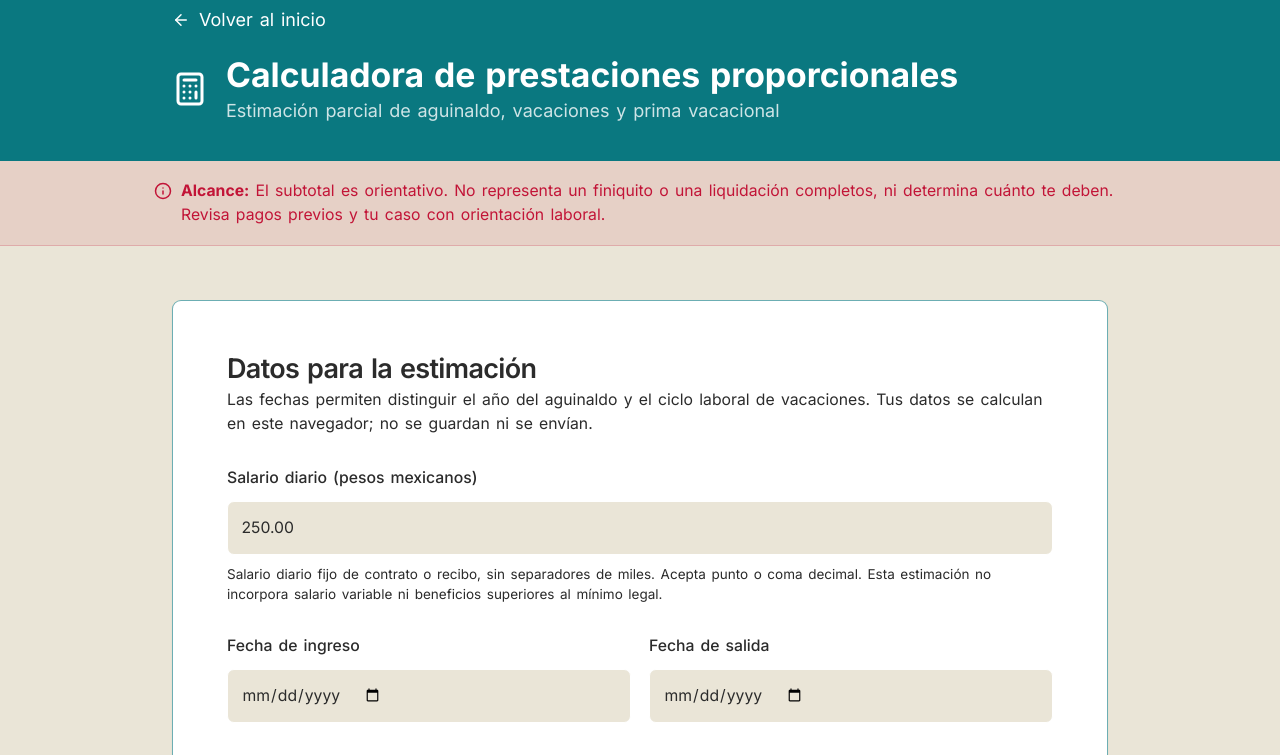
Scenario: Calculadora de prestaciones proporcionales › retira inmediatamente el resultado cuando cambia Fecha de salida
In the field labelled "Salario diario (pesos mexicanos)": (640, 528) left=227, top=500, right=1053, bottom=554, type "365"
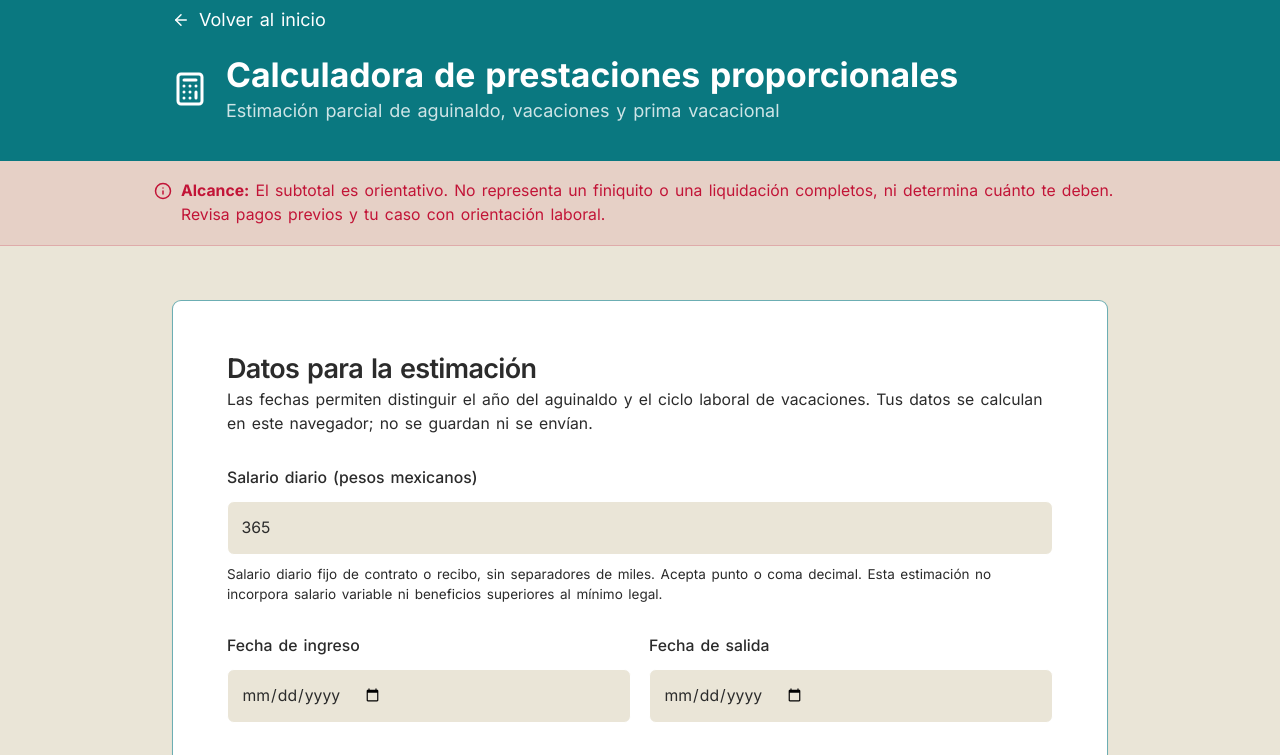
In the date field labelled "Fecha de ingreso": (429, 696) left=227, top=669, right=631, bottom=723, type "2025-12-30"
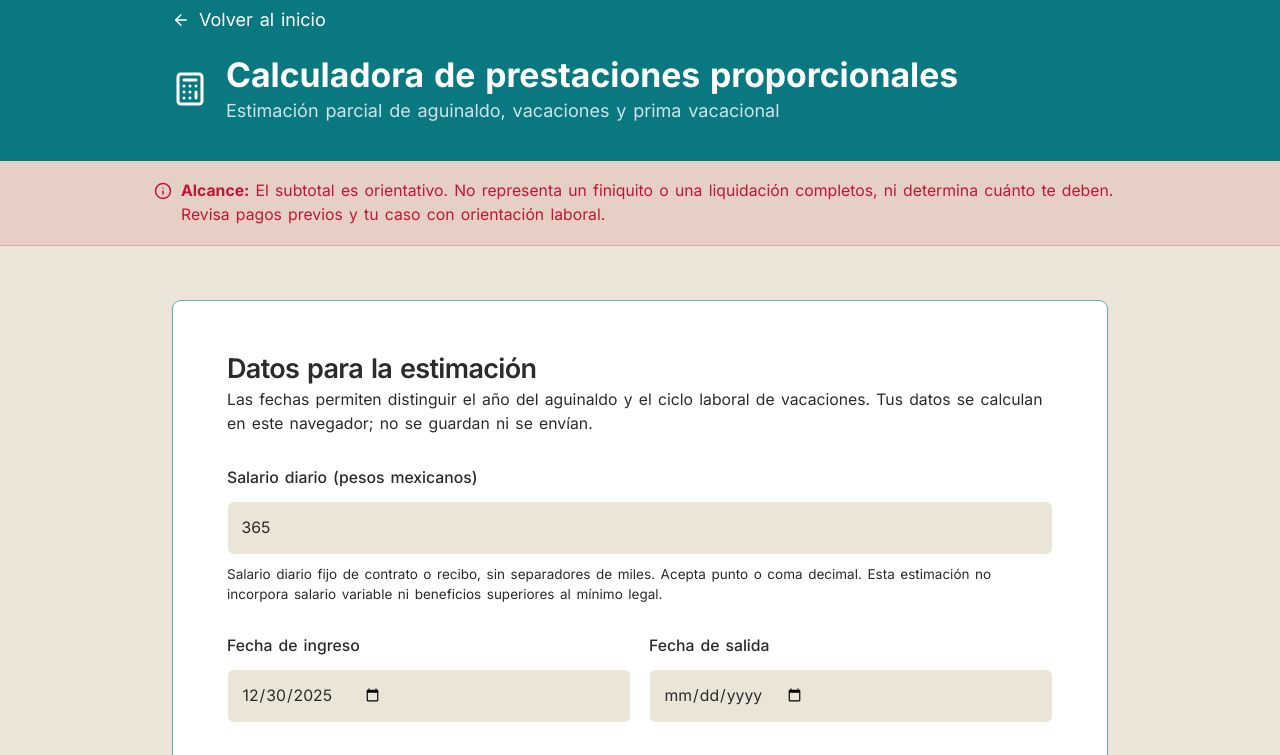
In the date field labelled "Fecha de salida": (851, 696) left=649, top=669, right=1053, bottom=723, type "2025-12-31"
(page scrolled)
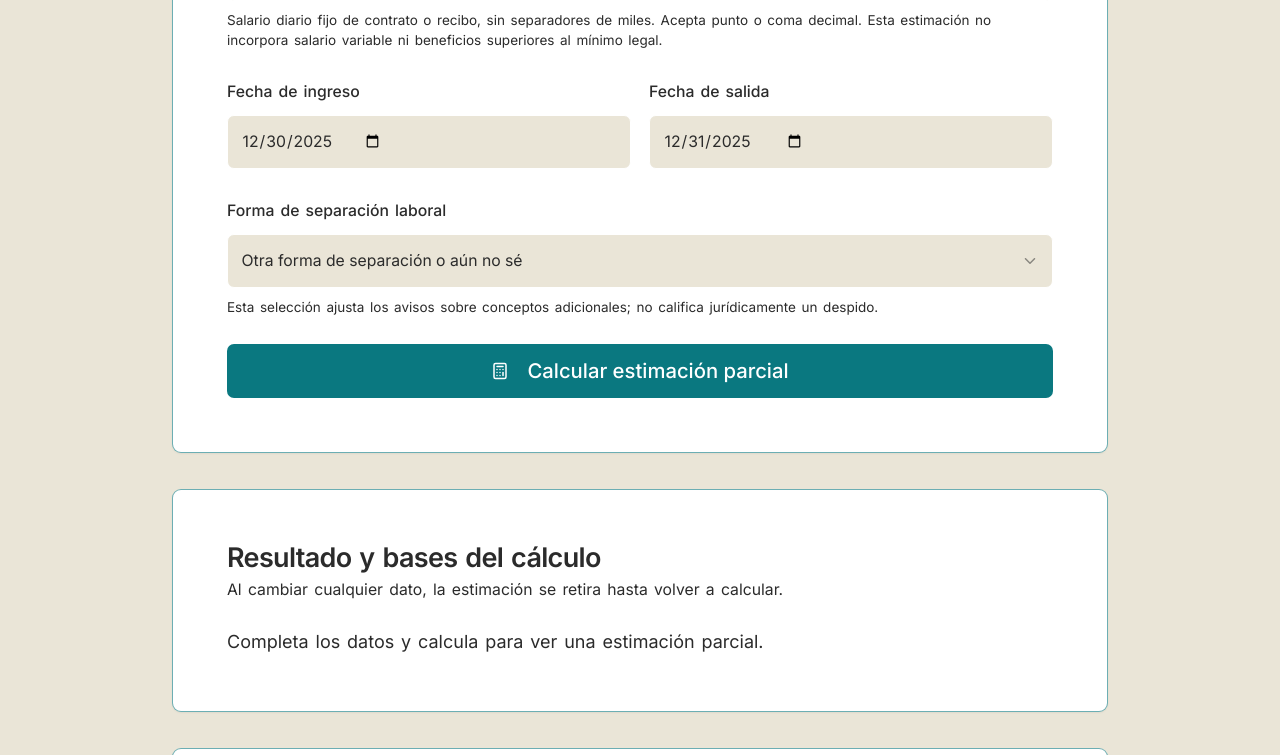
Click the button "Calcular estimación parcial": (640, 371) left=227, top=344, right=1053, bottom=398
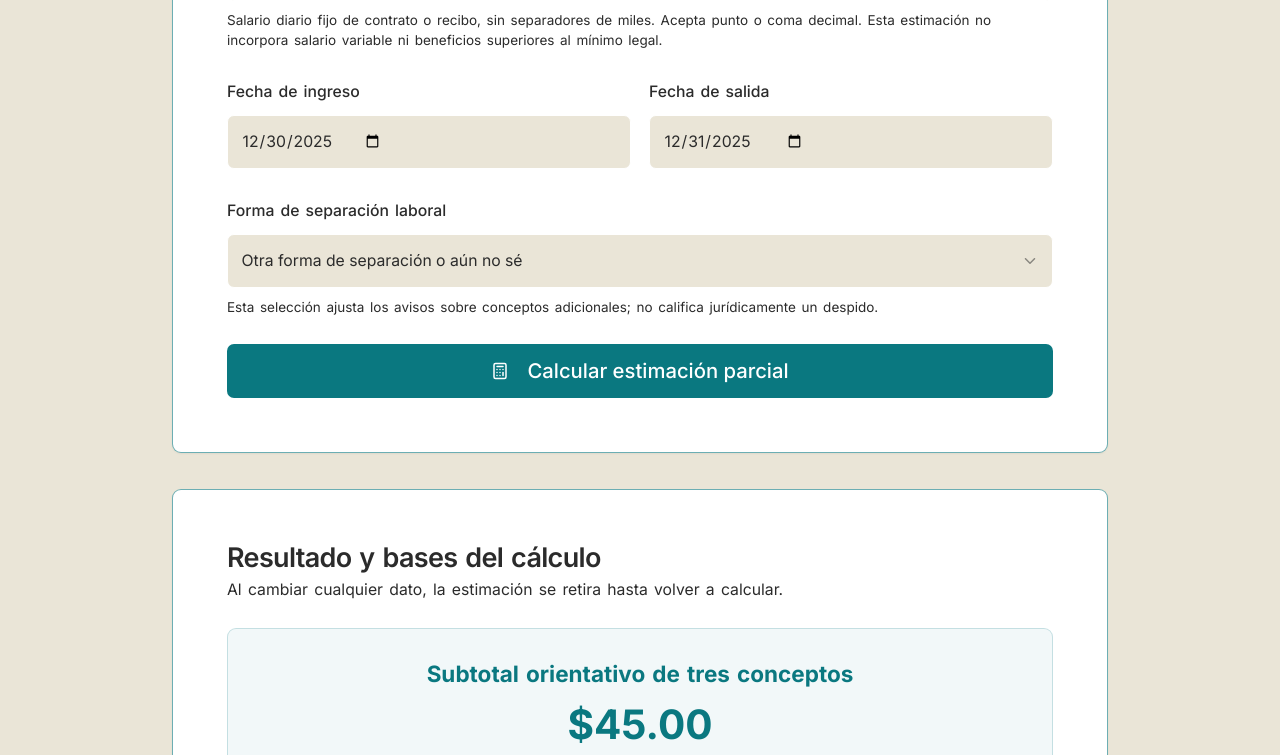
Expected: the heading "Subtotal orientativo de tres conceptos" is shown, left=427, top=660, right=853, bottom=687
In the date field labelled "Fecha de salida": (851, 142) left=649, top=115, right=1053, bottom=169, type "2025-12-30"
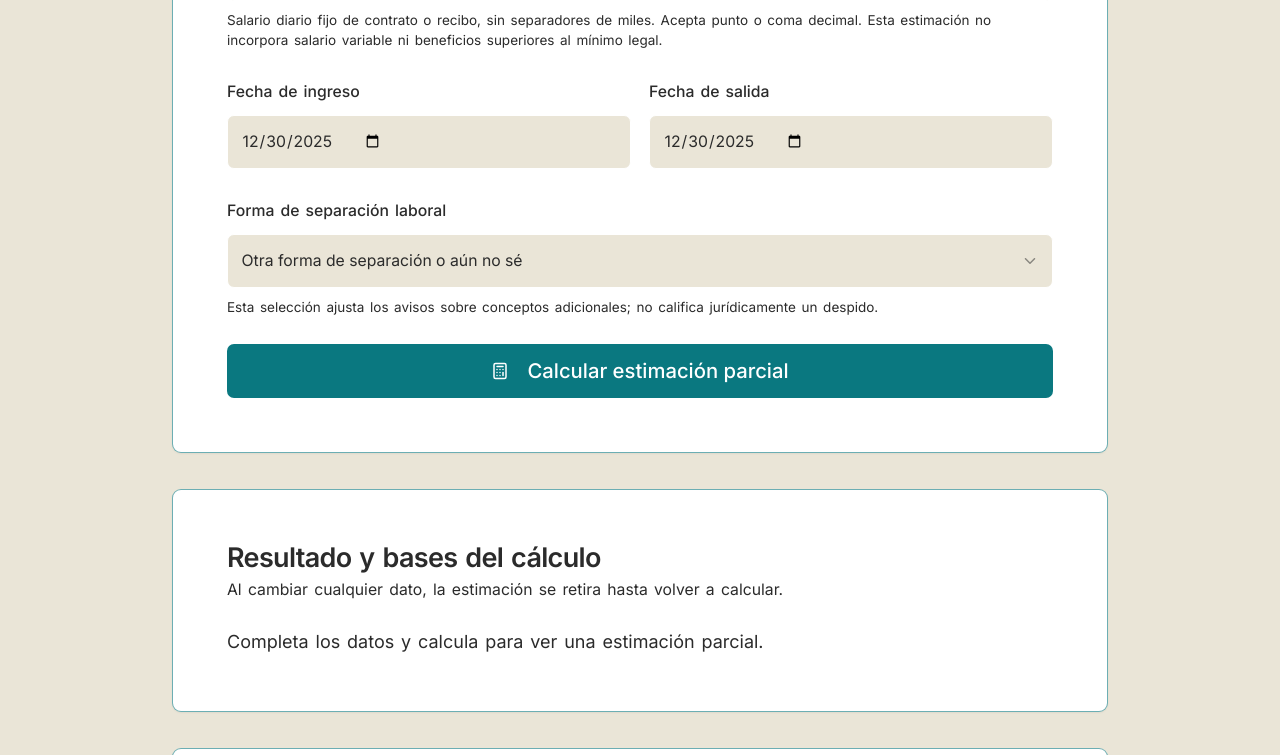
Expected: the heading "Subtotal orientativo de tres conceptos" is gone
